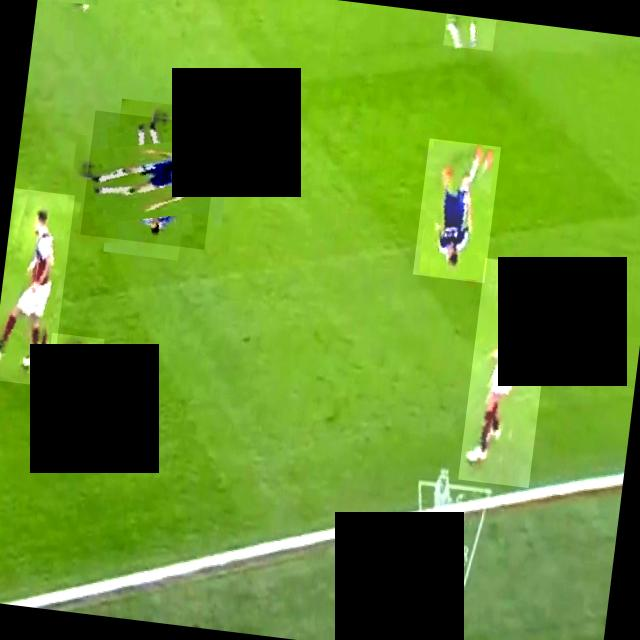ball: (45, 332, 104, 392)
soccer-player: (458, 258, 556, 488), (80, 110, 219, 249), (0, 187, 74, 386), (412, 138, 500, 283), (442, 13, 496, 51), (57, 0, 96, 10)
